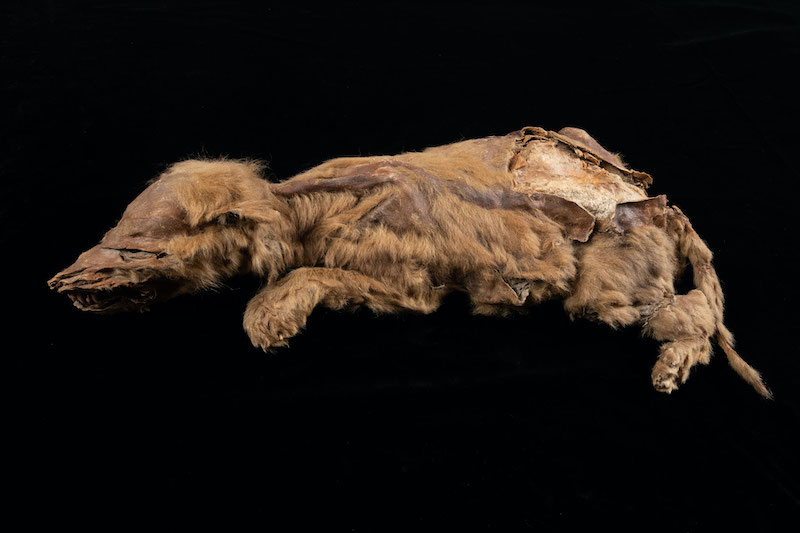Lobo: (48, 143, 728, 392)
